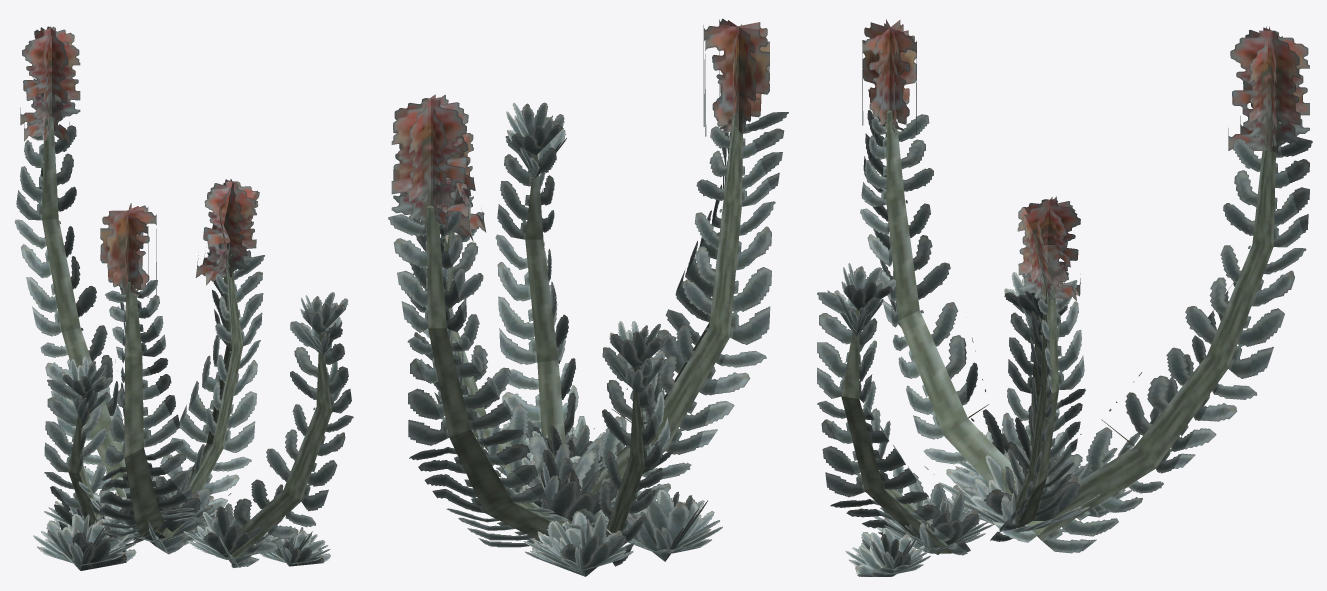
Rendered from C2SNORGA.obj.
3 views of the same model, side by side, from view 1: azimuth 30°, elevation 25°; view 2: azimuth 150°, elevation 25°; view 3: azimuth 270°, elevation 25° (orthographic). The views are drawn at different scales.
Parts seen in each view (by area): view 1: Node 0; view 2: Node 0; view 3: Node 0.
Boxes of the visible parts, x1,y1,x2,y2 form: Node 0: (14,26,353,570); Node 0: (388,18,788,576); Node 0: (817,19,1312,576).
Bounding box in the file's own units: 1.12 × 1.87 × 1.64.
Materials: 1 (1 with a texture image).
